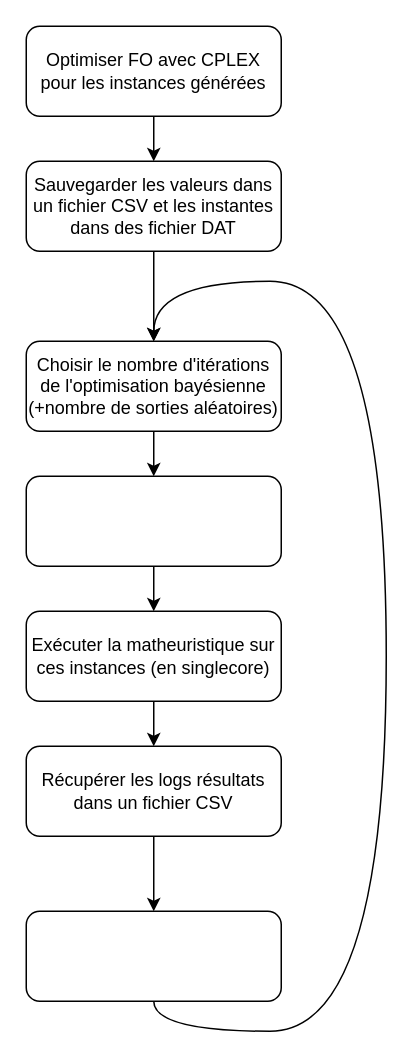
This 413x1058 diagram has some shape labels left out. Here are the shapes that lost their labels. From the top down, the centre of each, then its label:
At point (153, 520): "Choisir un lot d'instances à optimiser".
At point (153, 955): "Analyser les résultats".
